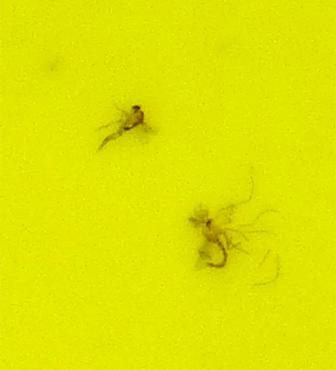Brachycera: (100, 100, 152, 149)
Nematocera: (188, 212, 236, 270)
